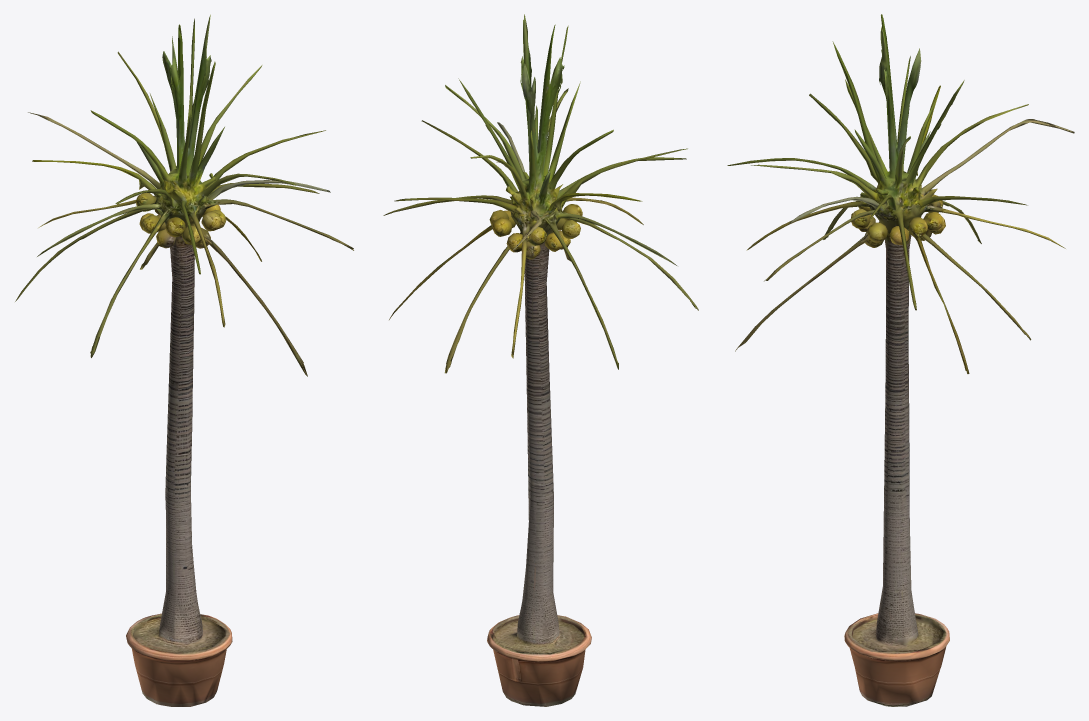
File: palm_tree.glb
3 renders of one model, left to right at view 1: azimuth 30°, elevation 25°; view 2: azimuth 150°, elevation 25°; view 3: azimuth 270°, elevation 25°, orthographic.
Parts seen in each view (by area): view 1: node_0; view 2: node_0; view 3: node_0.
Boxes of the visible parts, x1,y1,x2,y2 form: node_0: (15,14,353,706); node_0: (383,14,698,706); node_0: (727,14,1074,706).
Bounding box in the file's own units: 0.5366 × 1.19 × 0.554.
1 material, 1 textured.
